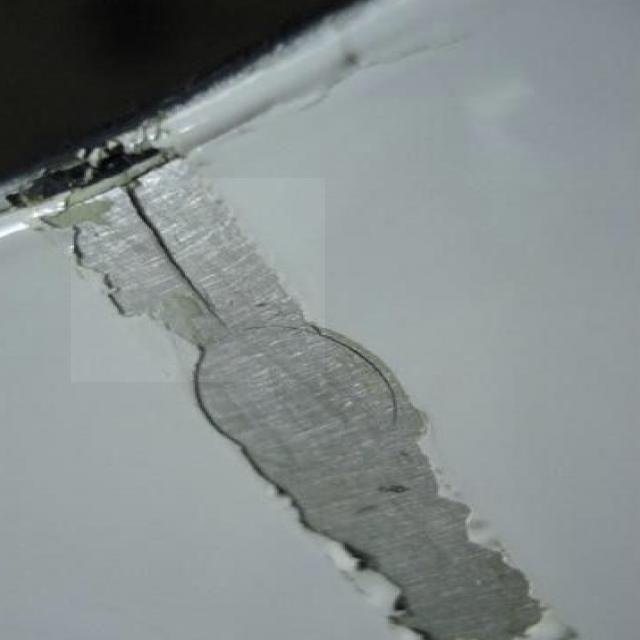crack: (73, 179, 327, 383)
